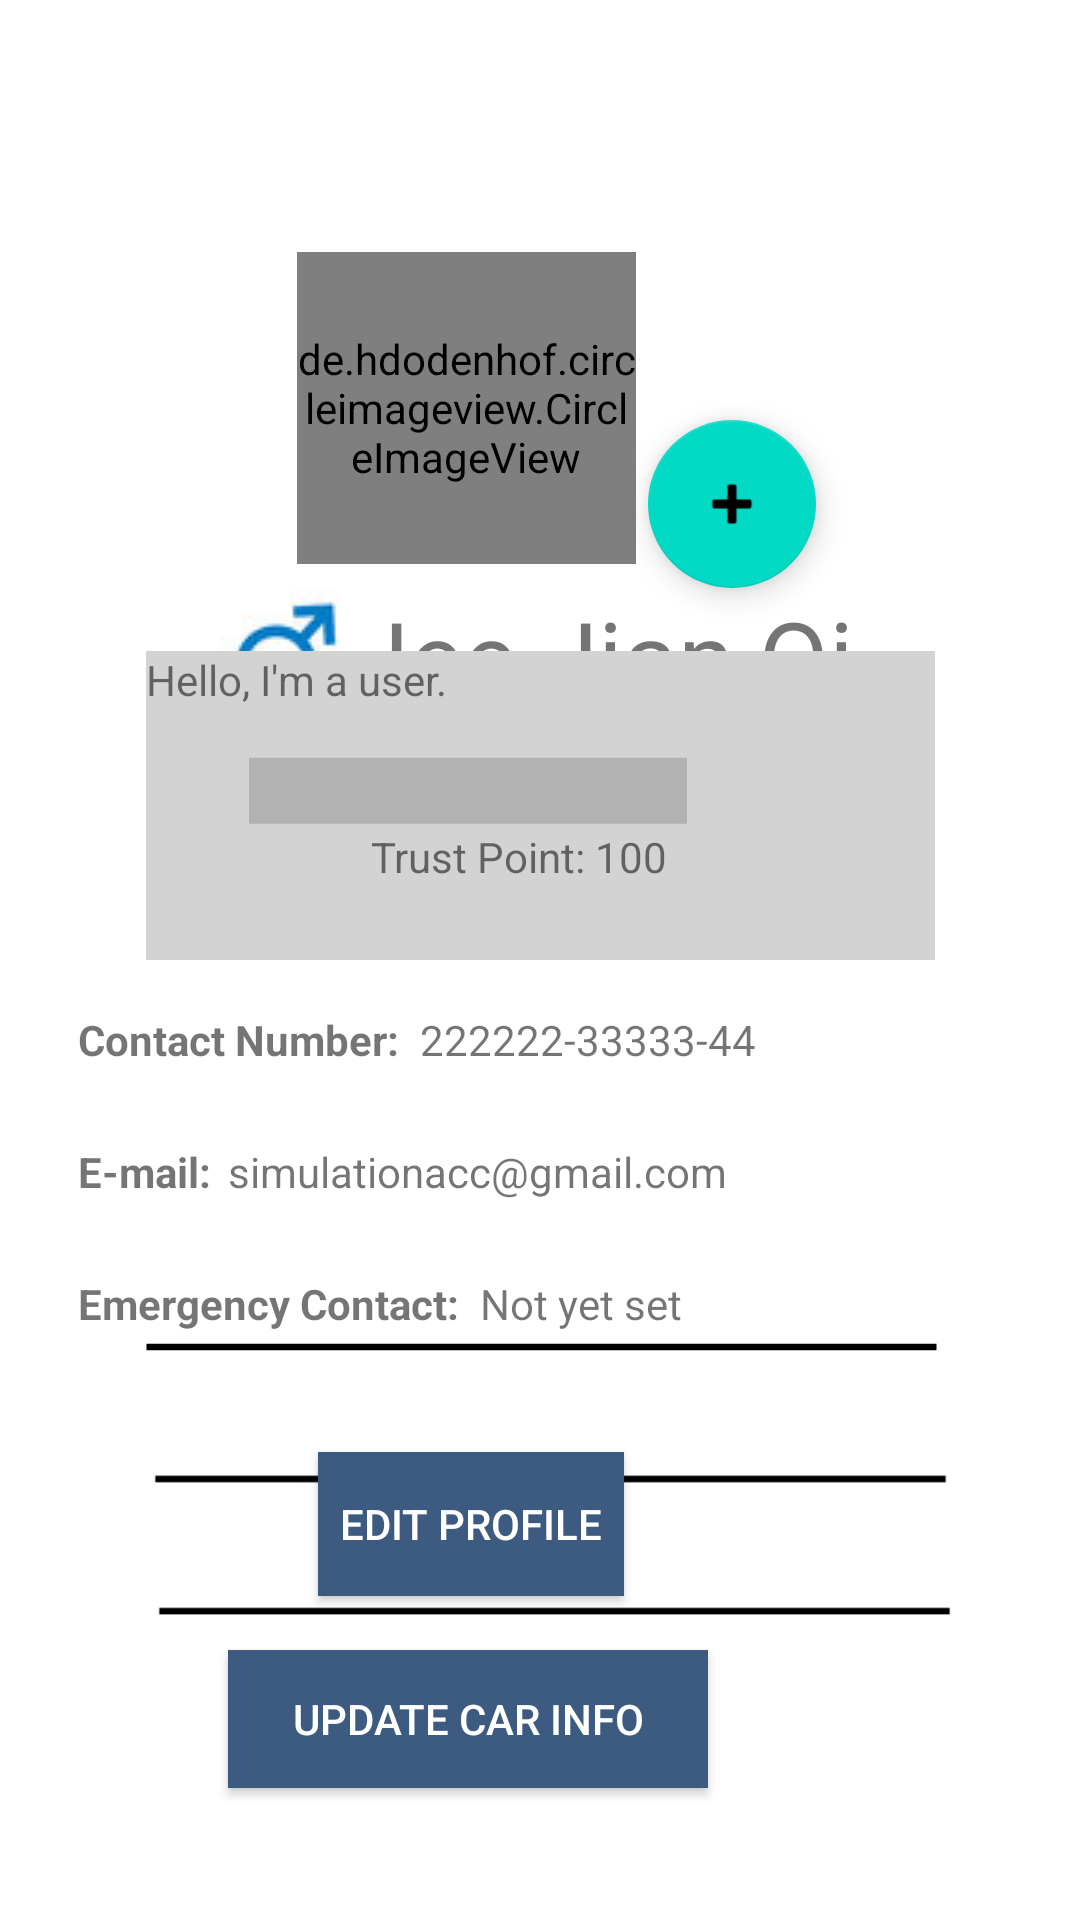

Screen size 1080px×1920px. Icon name, then its center in pixels as [x,y]:
add: [732,504]
